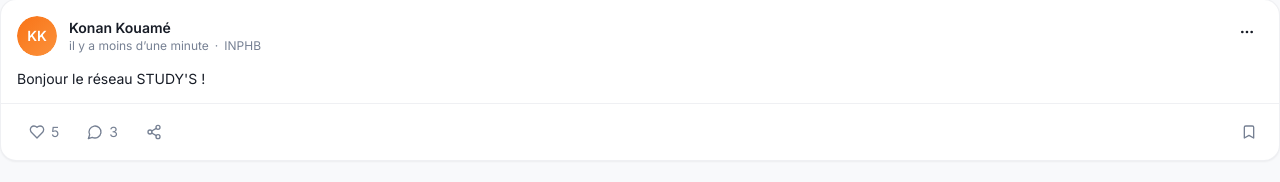
PostCard › affiche le bouton Supprimer uniquement pour l'auteur
Click the button without text in the row of "INPHB".
click(1247, 32)  # box [1231,16,1263,48]
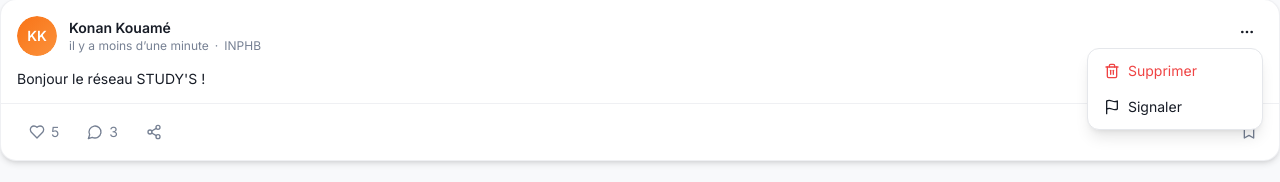
Now the button "Supprimer" is shown, box [1092,53,1258,89]
